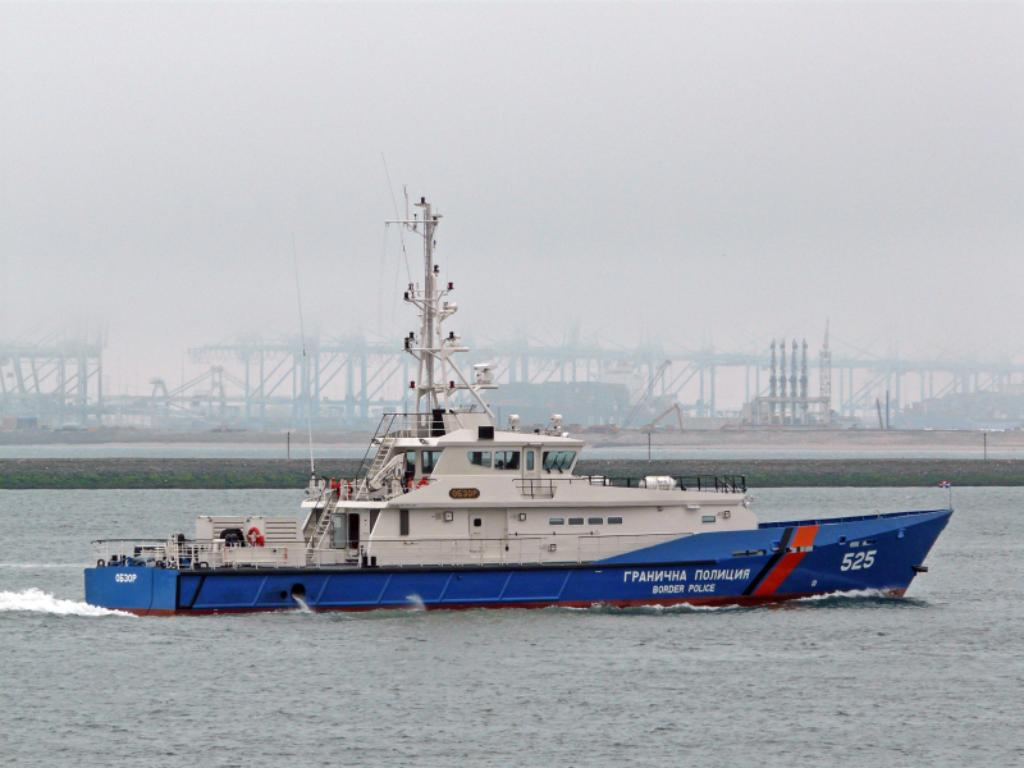Warship: (90, 182, 960, 626)
